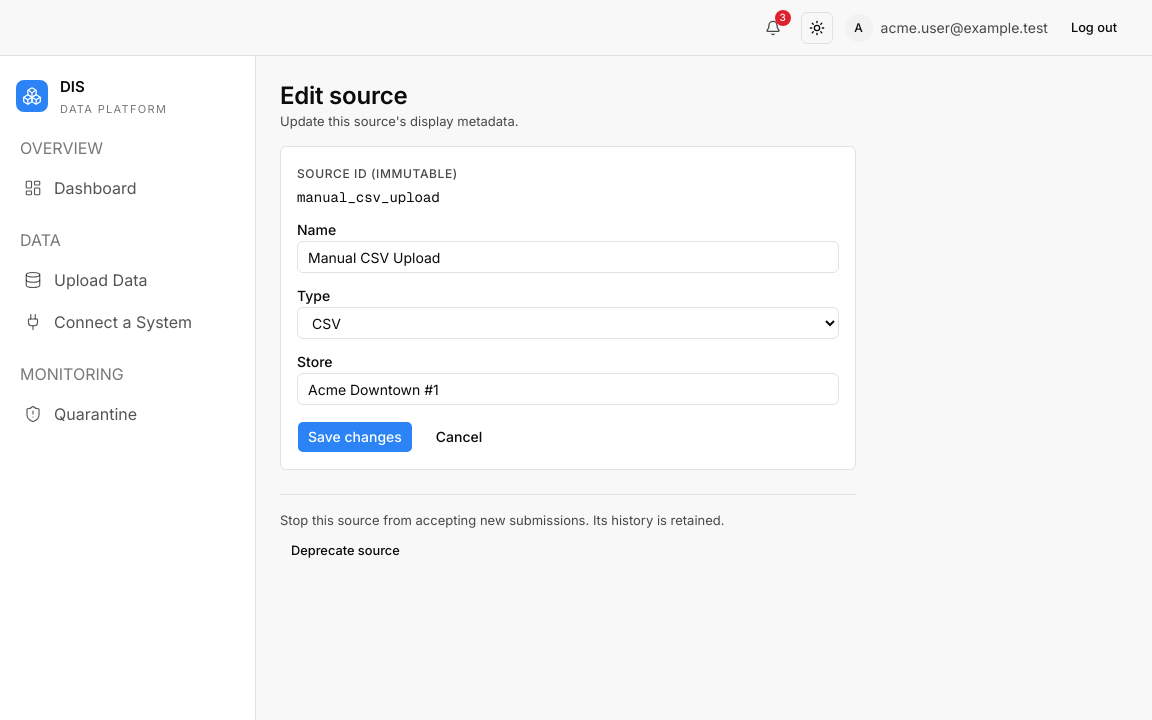
it: SourceEdit › updates the display metadata and the index reflects it
Replace the text in the field labelled "Name" with "Renamed CSV" at (568, 257), box left=297, top=241, right=839, bottom=273
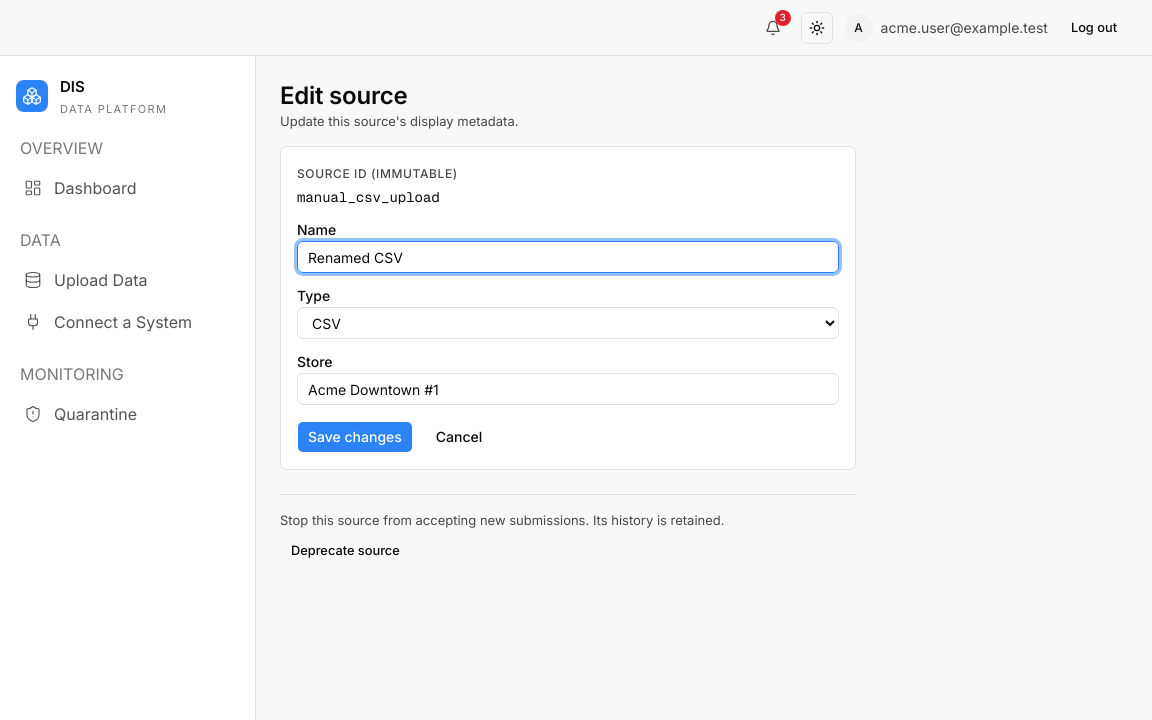
Click the button "Save changes" at (355, 437), box left=297, top=421, right=413, bottom=453
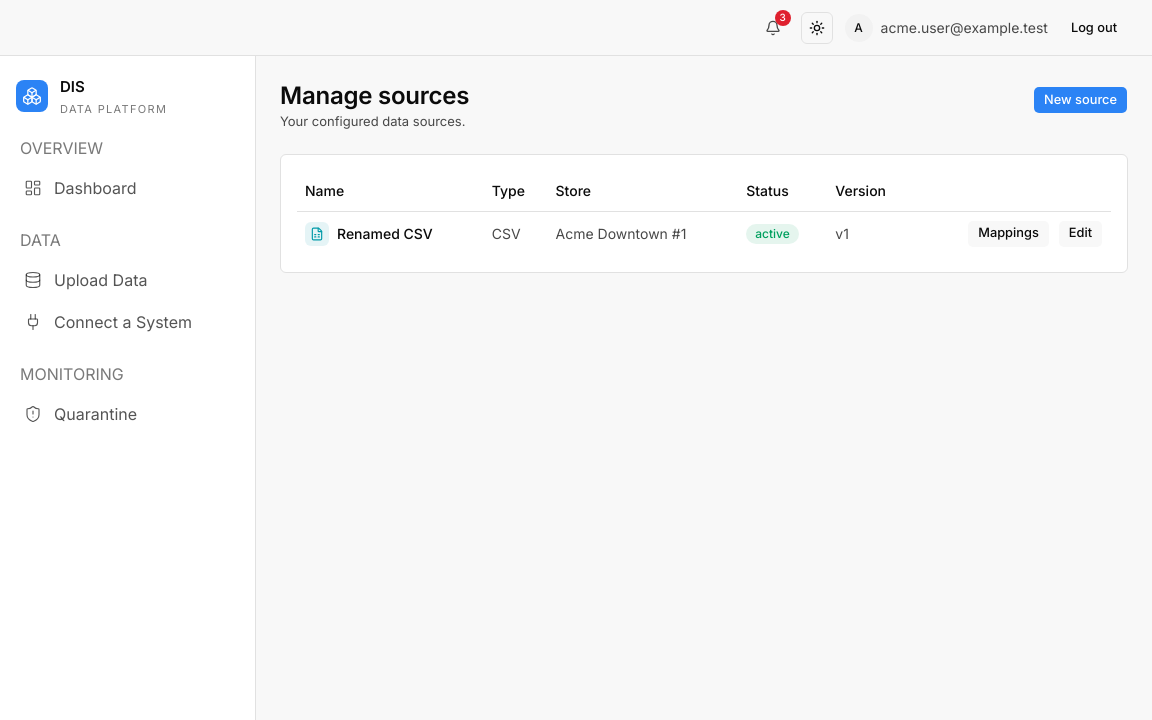
Expected: the heading "Manage sources" is shown, left=280, top=80, right=469, bottom=112
Expected: the text "Renamed CSV" is shown, left=305, top=222, right=433, bottom=246
